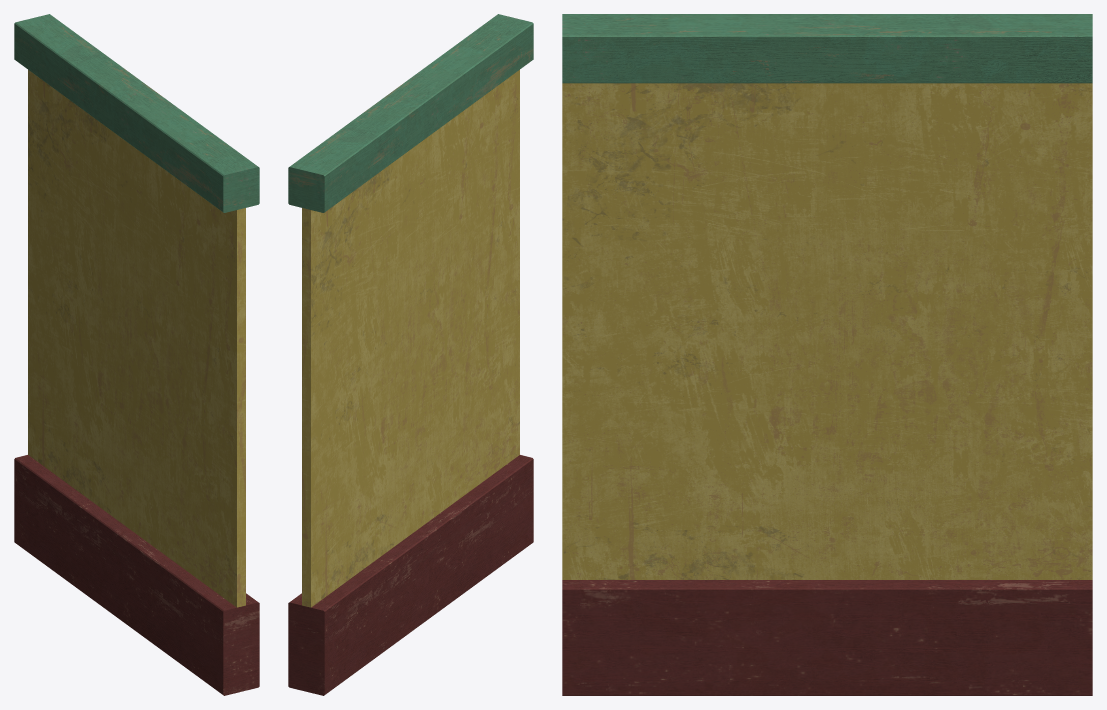
File: SM_Wall04a.fbx
The picture shows the model from 3 angles, left to right: view 1: azimuth 30°, elevation 25°; view 2: azimuth 150°, elevation 25°; view 3: azimuth 270°, elevation 25°; orthographic projection. The views are drawn at different scales.
Visible parts, largest first — view 1: SM_Wall04a; view 2: SM_Wall04a; view 3: SM_Wall04a.
Part boxes in pixels (<box>): SM_Wall04a: <box>14,14,259,695</box>; SM_Wall04a: <box>288,14,533,695</box>; SM_Wall04a: <box>562,14,1092,695</box>.
Size of the model in its own units: 20 by 275 by 200.
